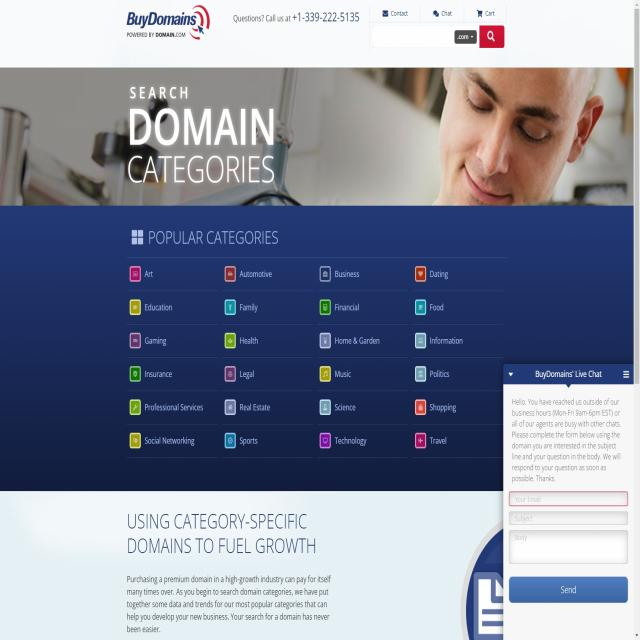menu-bar: (370, 2, 508, 24)
search: (371, 21, 508, 51)
